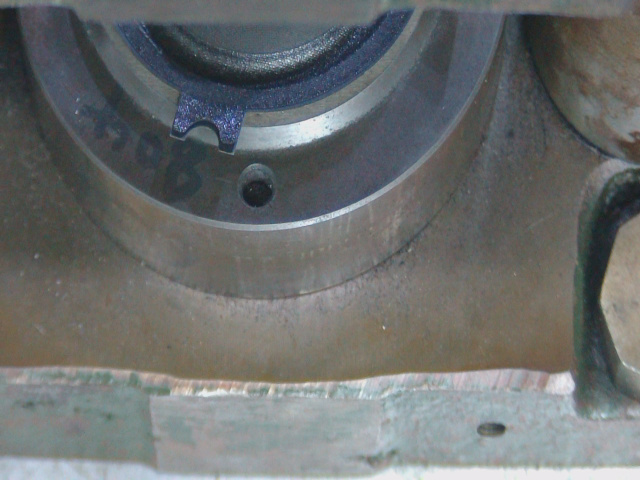HX2: (170, 89, 253, 164)
